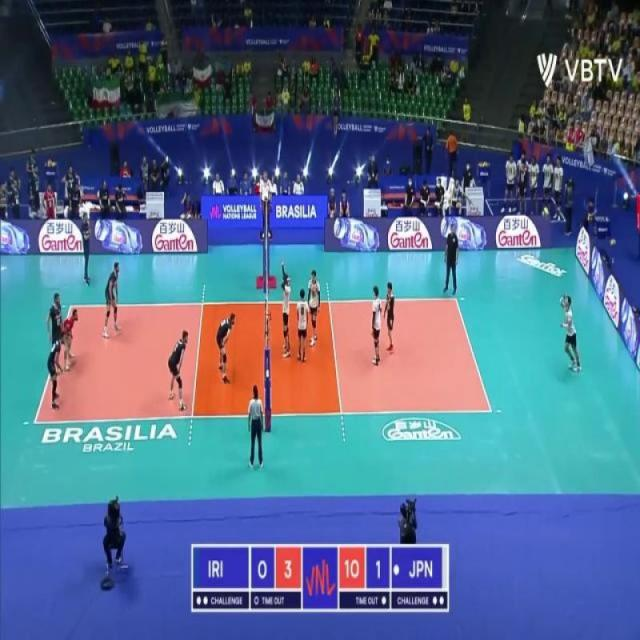volleyball: (541, 207, 549, 220)
